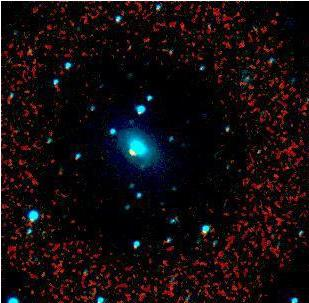star: (116, 137, 146, 167)
